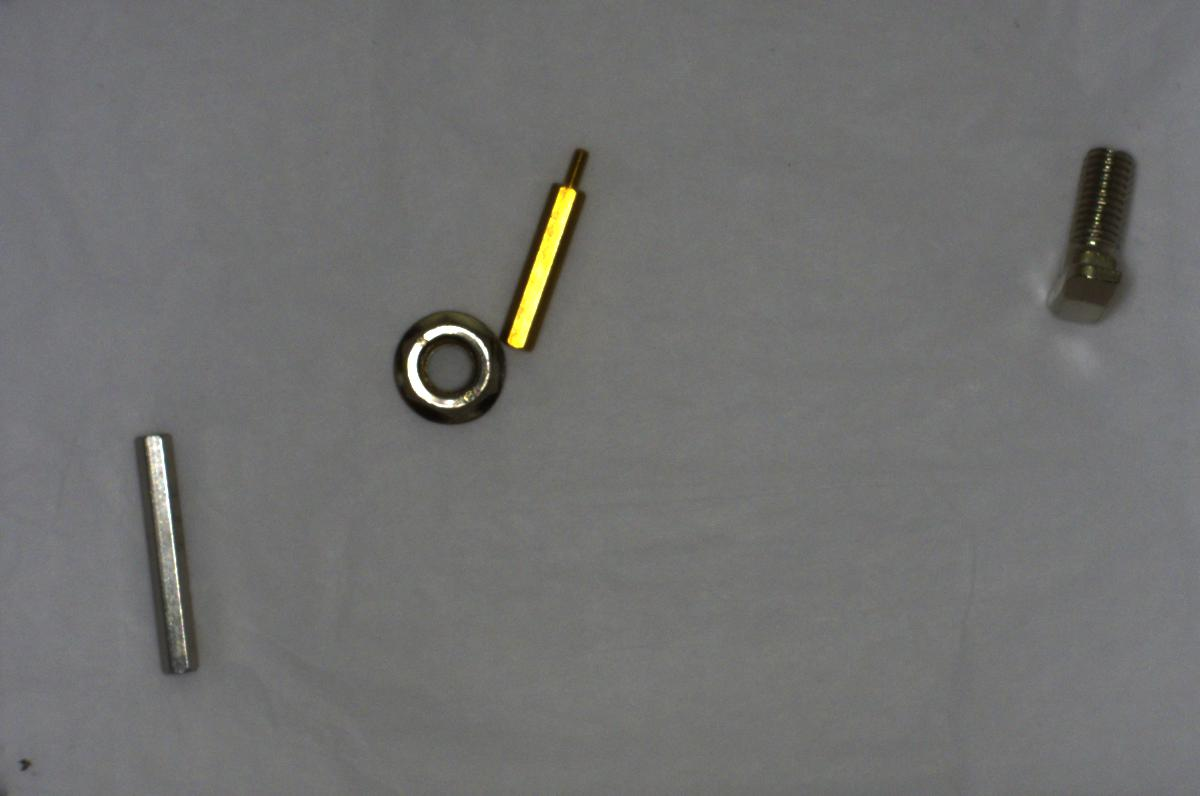Double hexagonal column: (130, 428, 210, 688)
Flange nut: (382, 301, 512, 435)
Hexagon pillar: (499, 138, 595, 358)
T-shaped screw: (1034, 136, 1142, 325)
